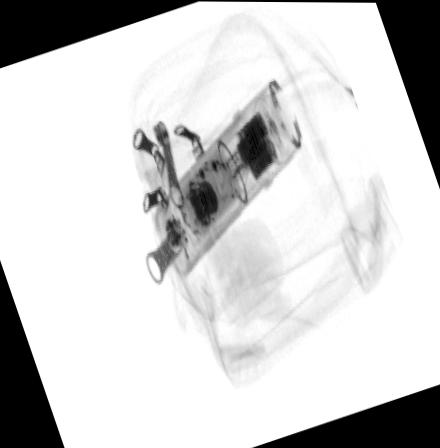Baton: (151, 72, 302, 280)
